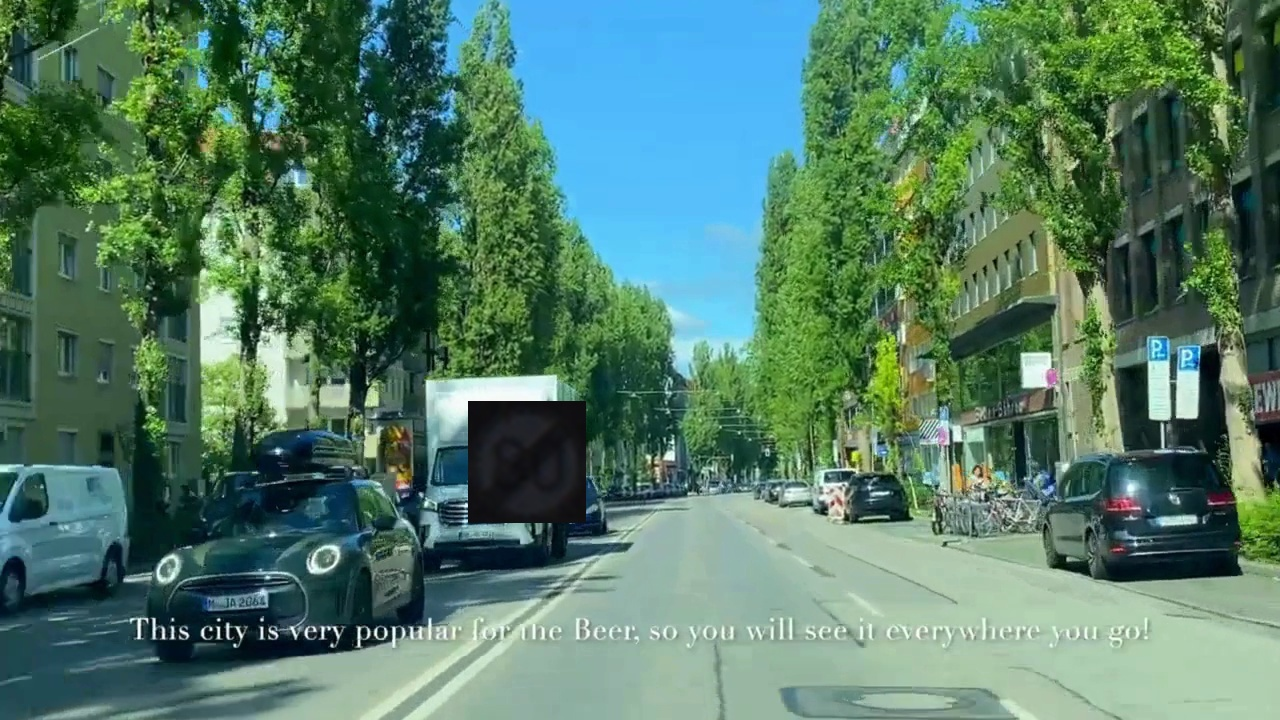End Speed 80: (468, 401, 586, 523)
